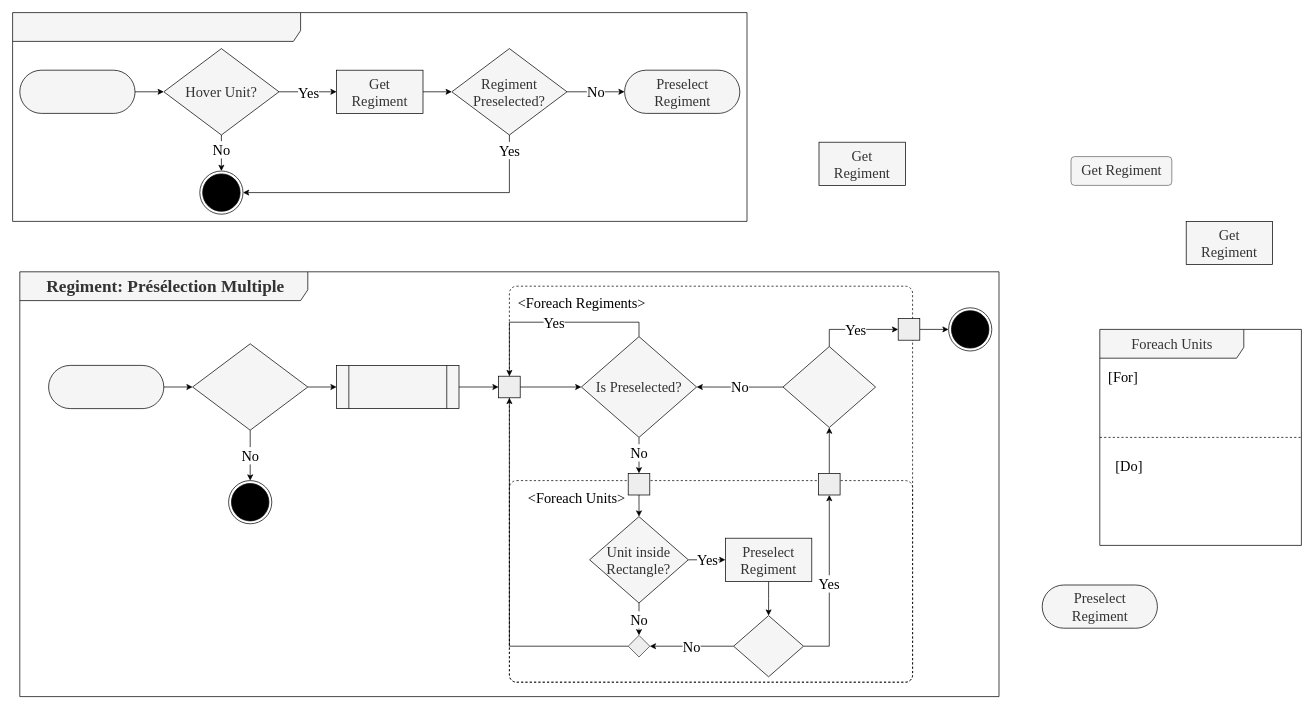
Some shapes in this 1314 by 709 pixel diagram are drawn without their labels. Here are the shapes that lost their labels. From the top down, the box of each, then its label:
(19, 69, 135, 113): Mouse Move
(12, 12, 747, 221): Regiment: Présélection Simple
(48, 365, 164, 409): Left Mouse Pressed
(192, 343, 308, 430): Mouse Move?
(336, 365, 459, 409): On Screen: Draw Rectangle
(782, 346, 876, 428): Last Regiment?
(733, 615, 804, 677): Last Unit?
